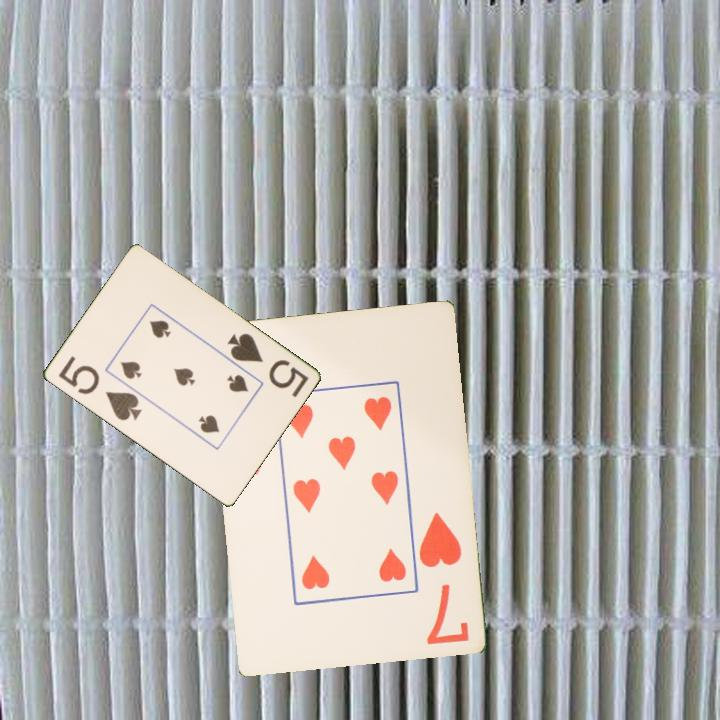5s: (54, 352, 144, 424), (223, 329, 311, 400)
7h: (415, 508, 471, 647)
